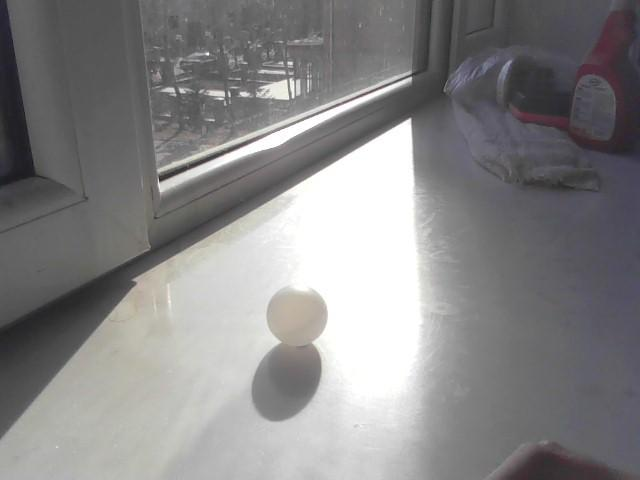ball: (267, 286, 327, 346)
